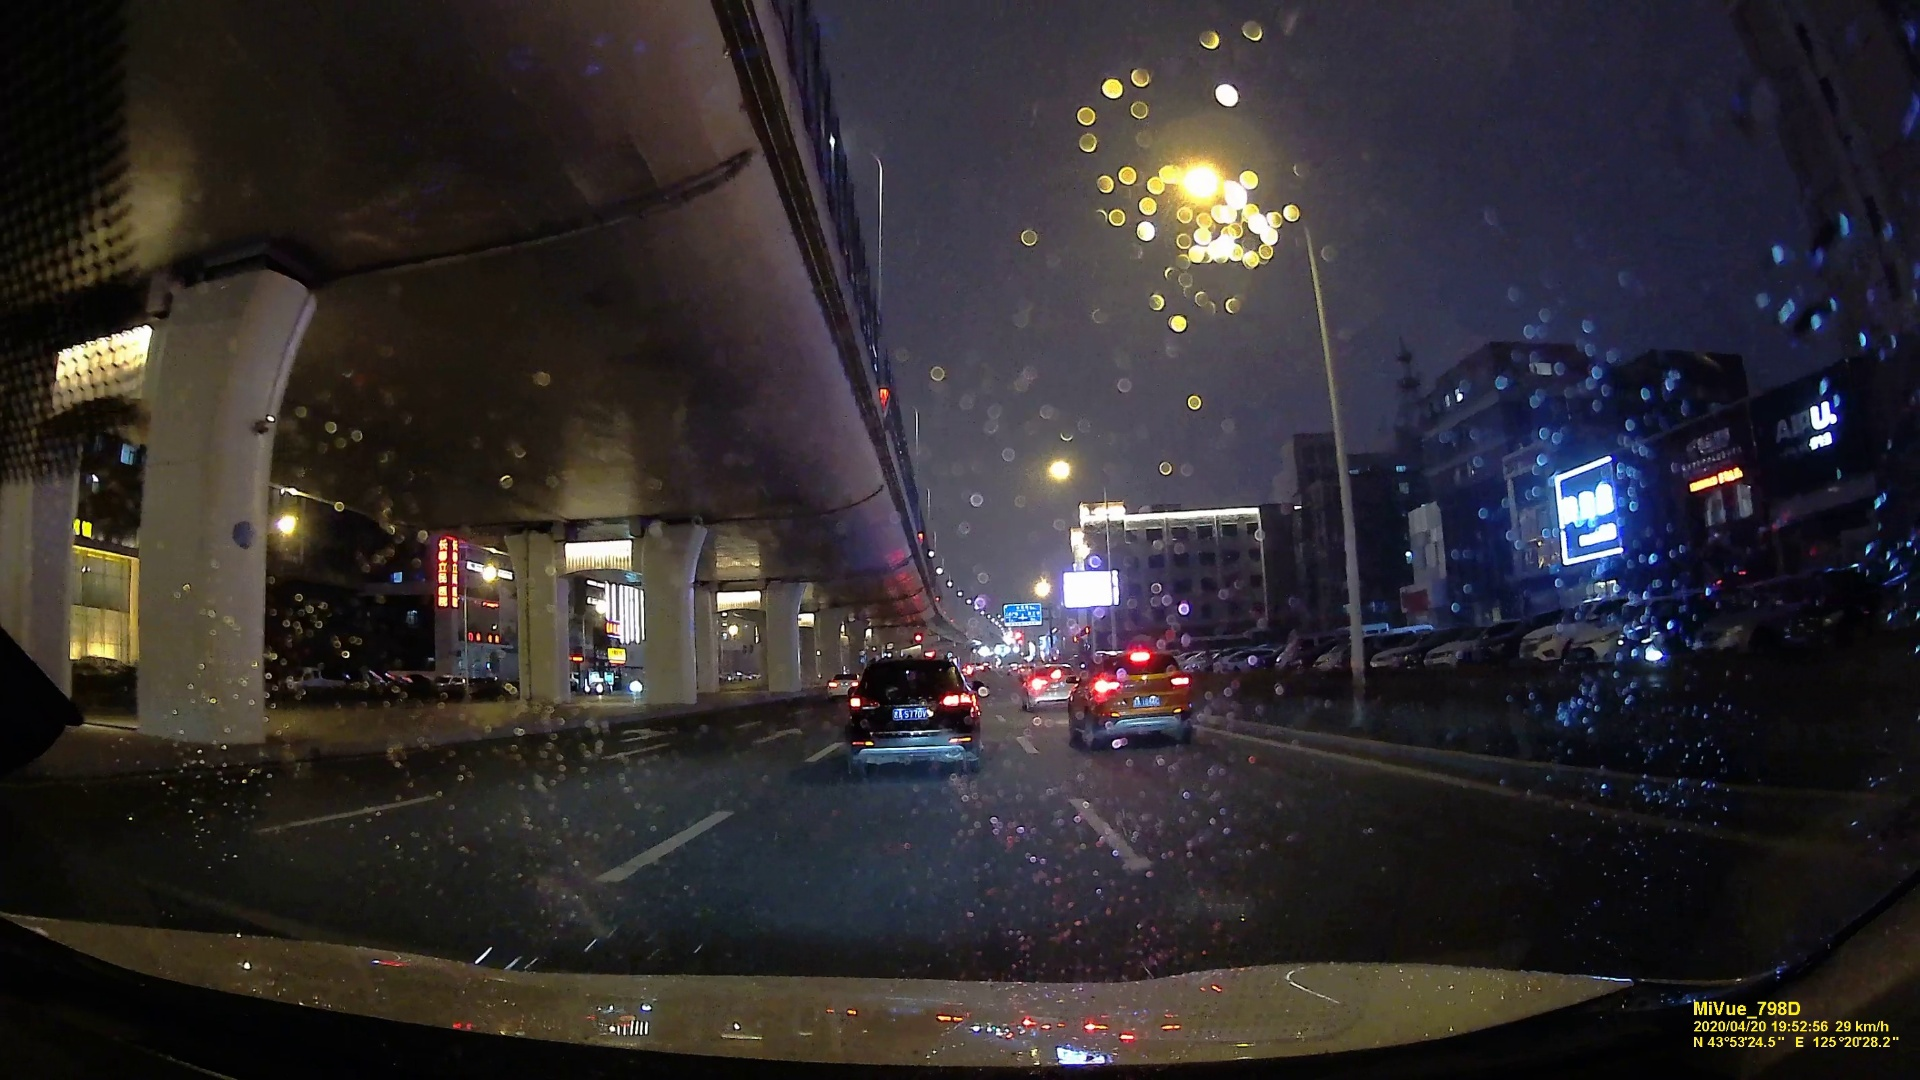traffic_sign: (1002, 603, 1043, 626)
vehicle: (847, 651, 984, 770), (1065, 632, 1196, 752), (1025, 662, 1075, 708)
